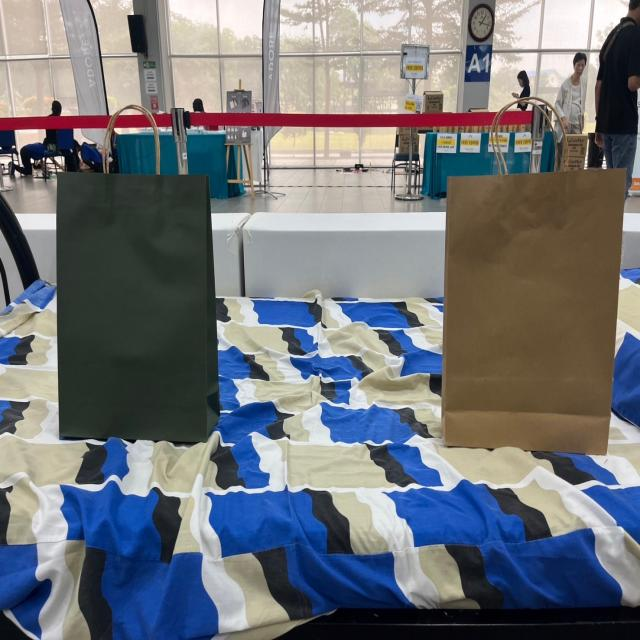bag: (462, 108, 606, 447), (76, 109, 196, 418)
